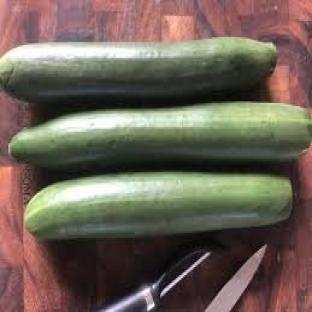Cucumber: (10, 102, 310, 167), (0, 37, 277, 102), (25, 173, 291, 239)
